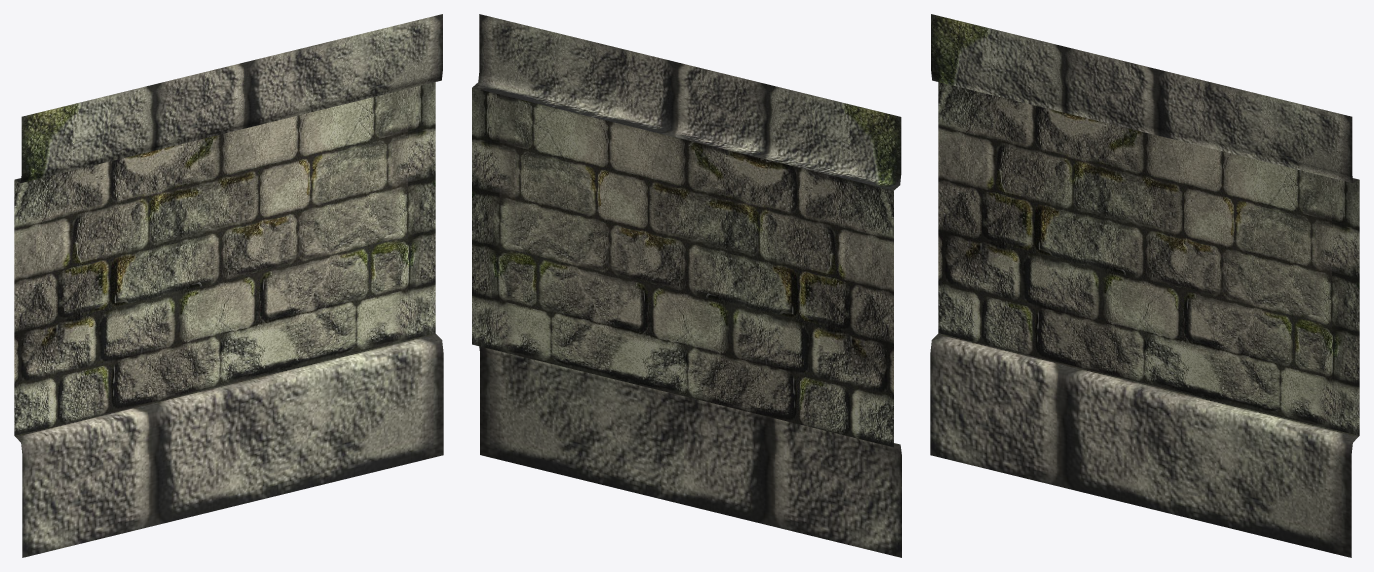
Rendered from wall.fbx.
3 views of the same model, side by side, from view 1: azimuth 30°, elevation 25°; view 2: azimuth 150°, elevation 25°; view 3: azimuth 330°, elevation 25° (orthographic).
Parts seen in each view (by area): view 1: WallRecule; view 2: WallRecule; view 3: WallRecule.
Part boxes in pixels (left/top/right/bottom): WallRecule: left=14, top=14, right=443, bottom=557; WallRecule: left=472, top=14, right=901, bottom=557; WallRecule: left=930, top=14, right=1359, bottom=557.
Bounding box in the file's own units: 1 × 1 × 0.0329.
